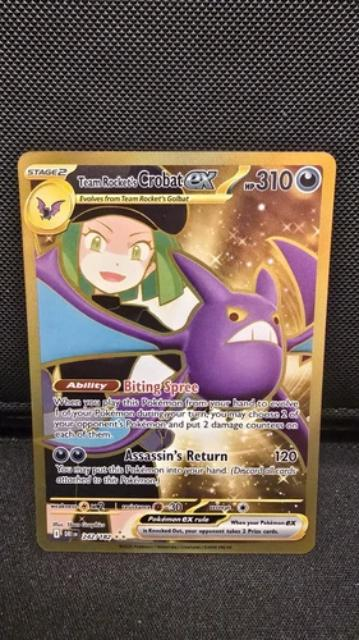Card: (14, 145, 341, 558)
Name: (74, 168, 229, 197)
